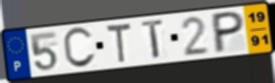2: (179, 15, 210, 58)
5: (28, 30, 61, 73)
C: (61, 26, 98, 71)
P: (212, 10, 247, 56)
T: (104, 21, 133, 65), (140, 17, 167, 61)
